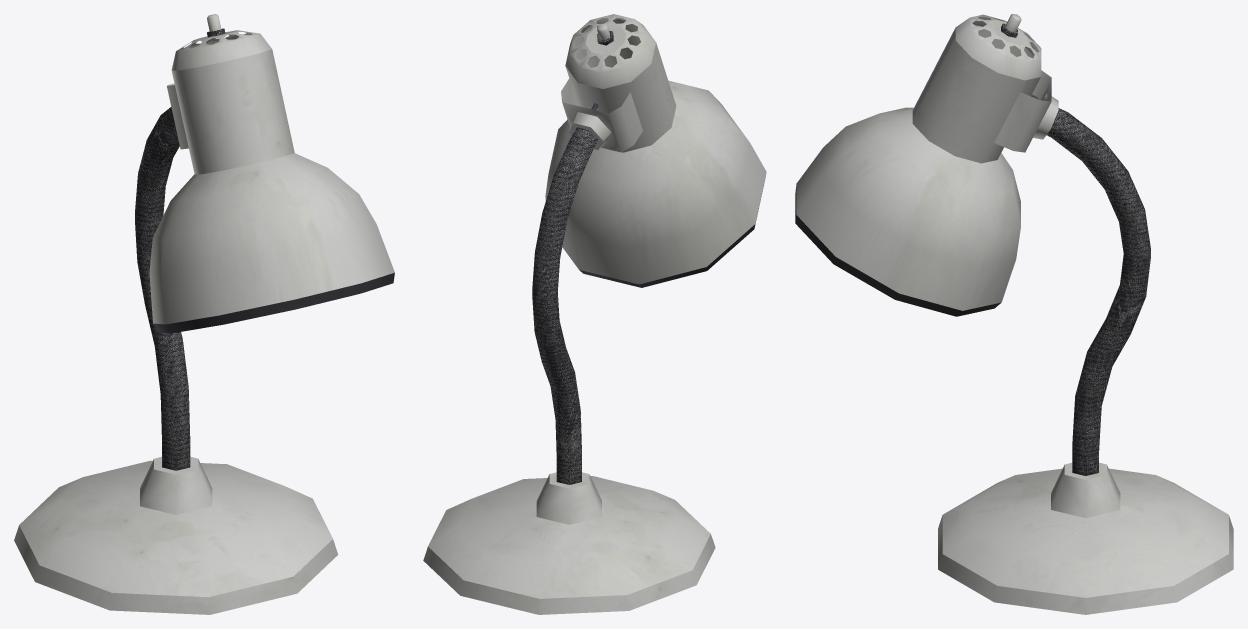
The model's file is Lamp.dae.
The picture shows the model from 3 angles, left to right: view 1: azimuth 30°, elevation 25°; view 2: azimuth 150°, elevation 25°; view 3: azimuth 270°, elevation 25°; orthographic projection. The views are drawn at different scales.
Visible parts, largest first — view 1: lampa_nastol (×5); view 2: lampa_nastol (×6); view 3: lampa_nastol (×5).
Part boxes in pixels (x1=…): lampa_nastol (×5): x1=14, y1=30, x2=394, y2=614; lampa_nastol (×6): x1=423, y1=14, x2=766, y2=614; lampa_nastol (×5): x1=795, y1=14, x2=1233, y2=614.
Bounding box in the file's own units: 8.63 × 12.16 × 16.36.
